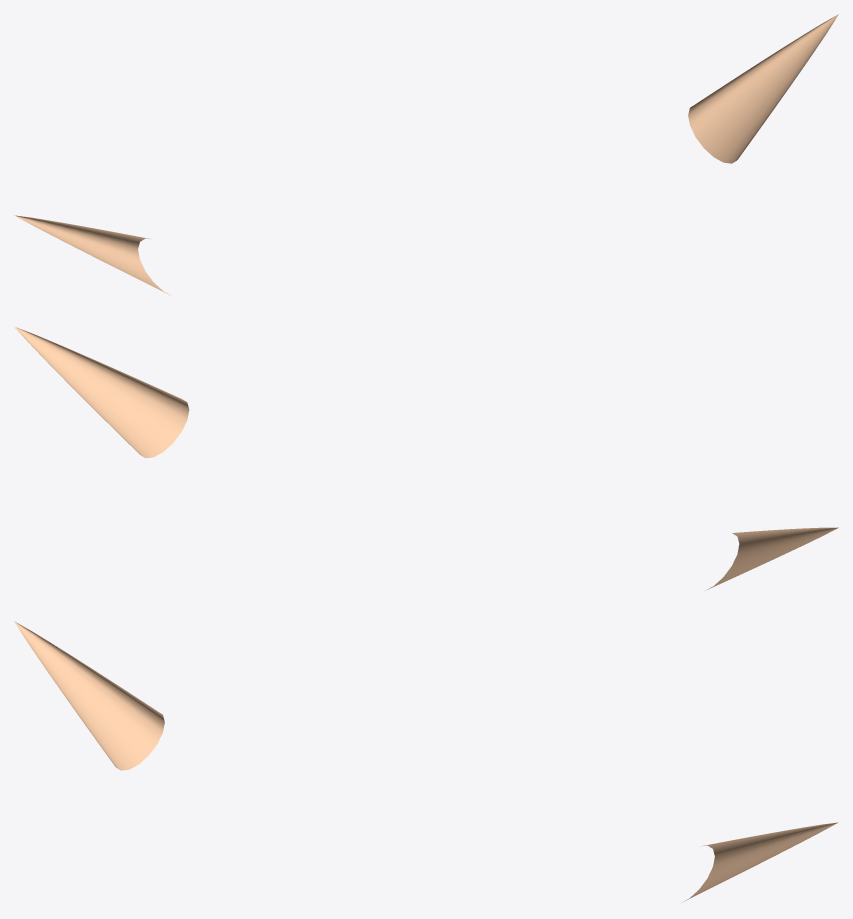
File: modele.glb
3 views of the same model, one above another, from view 1: azimuth 30°, elevation 25°; view 2: azimuth 150°, elevation 25°; view 3: azimuth 330°, elevation 25° (orthographic).
Size of the model in its own units: 78 by 9.1 by 8.4.
